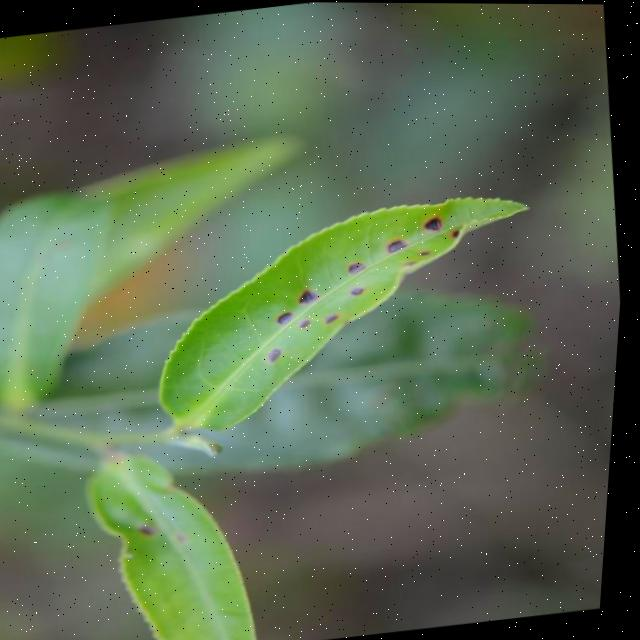Tea red scab: (247, 252, 388, 367), (331, 230, 427, 305), (380, 203, 469, 269), (128, 511, 206, 557)
